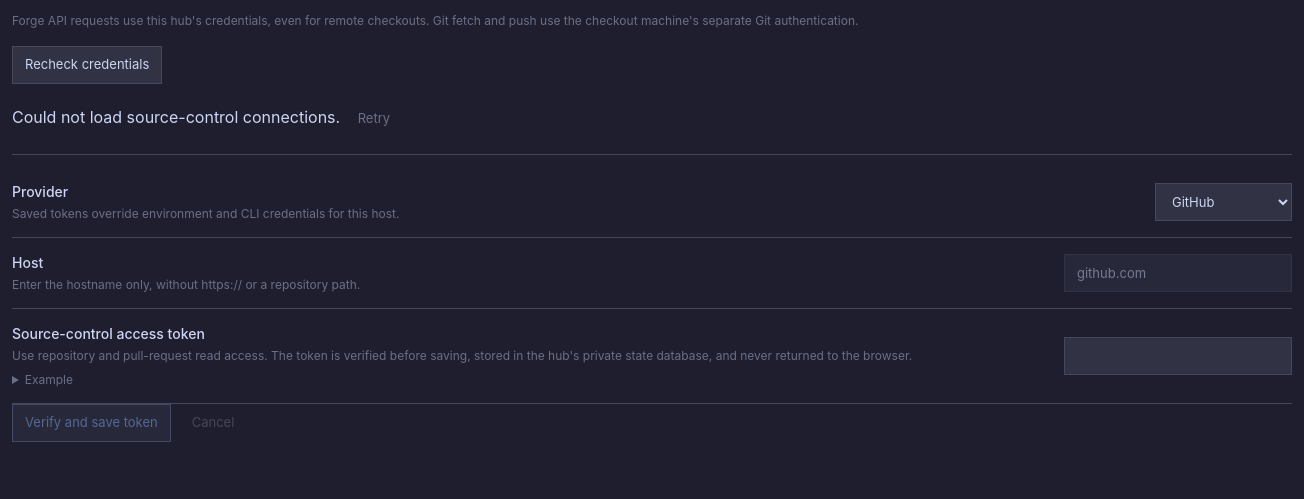
Test: SourceControlSettings › distinguishes errors from empty state and offers retry
Expected: the message shows "Could not load", [12,107,340,127]
Expected: the text "No forge credentials" is not shown
Click the button "Retry": (374,119) [345,100,403,138]
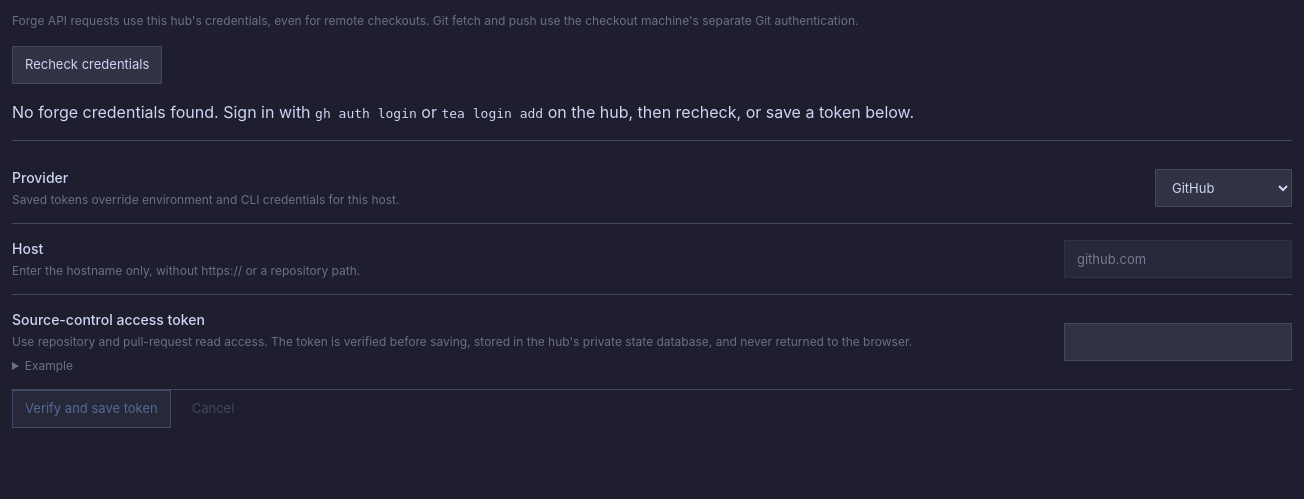
Expected: the text "No forge credentials" is shown, [12,102,315,122]
Click the button "Recheck credentials": (87,65) [12,46,162,84]
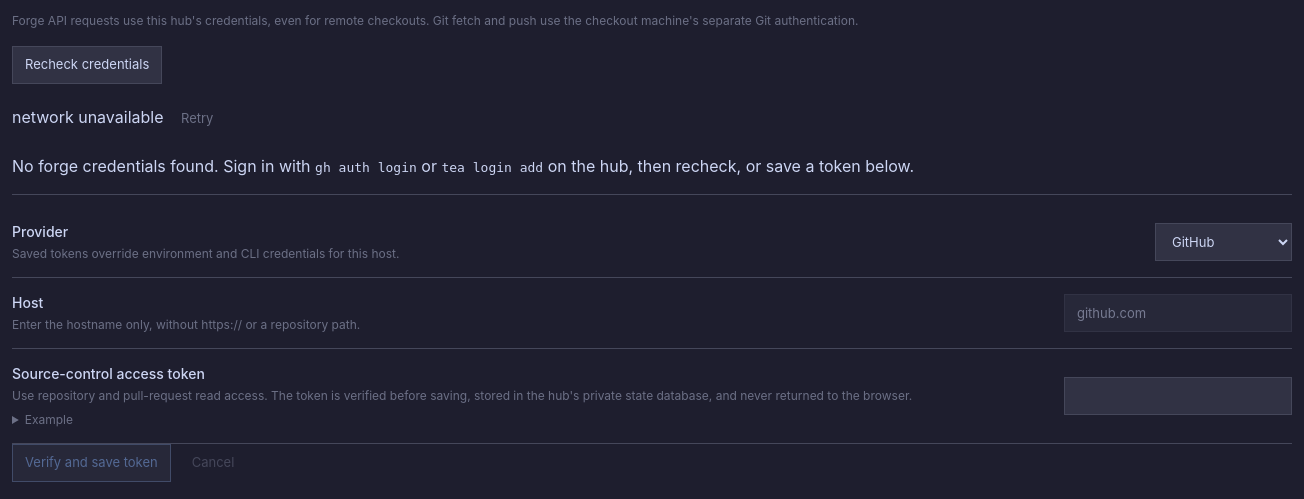
Expected: the message shows "network unavailable", [12,107,164,127]
